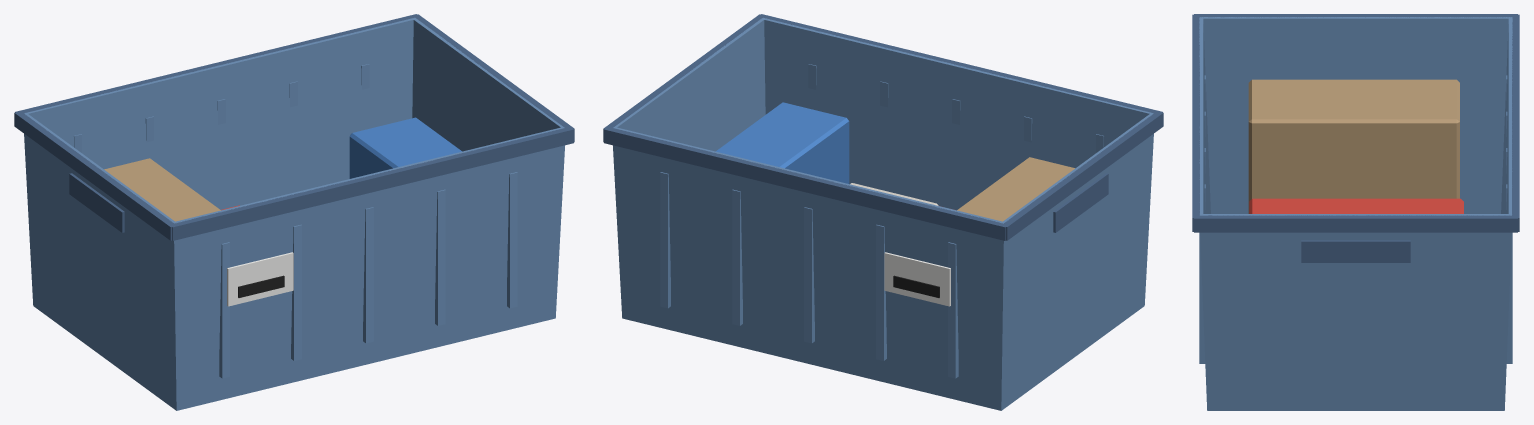
File: shuttle_tote_v1.fbx
The picture shows the model from 3 angles, left to right: view 1: azimuth 30°, elevation 25°; view 2: azimuth 150°, elevation 25°; view 3: azimuth 270°, elevation 25°; orthographic projection. The views are drawn at different scales.
Parts seen in each view (by area): view 1: ShuttleTote_v1; view 2: ShuttleTote_v1; view 3: ShuttleTote_v1.
Part boxes in pixels (x1,y1,x2,y2): ShuttleTote_v1: (14, 14, 574, 410); ShuttleTote_v1: (603, 14, 1163, 410); ShuttleTote_v1: (1192, 14, 1519, 410).
Size of the model in its own units: 0.618 by 0.28 by 0.418.
